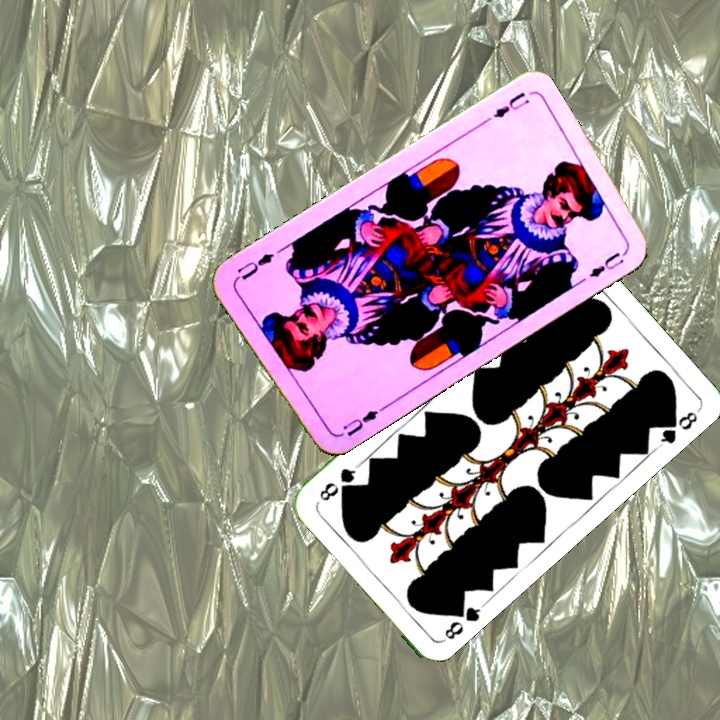EU: (478, 88, 532, 127), (338, 403, 386, 439)
G8: (439, 598, 487, 644)
